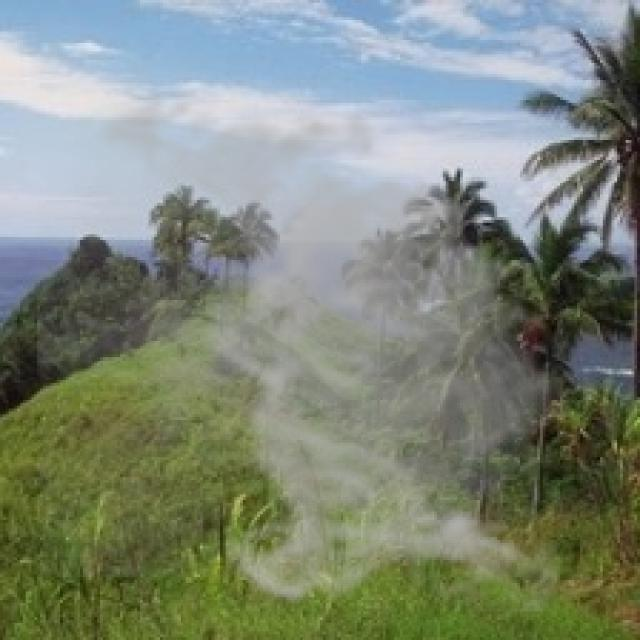Smoke: (37, 79, 589, 612)
